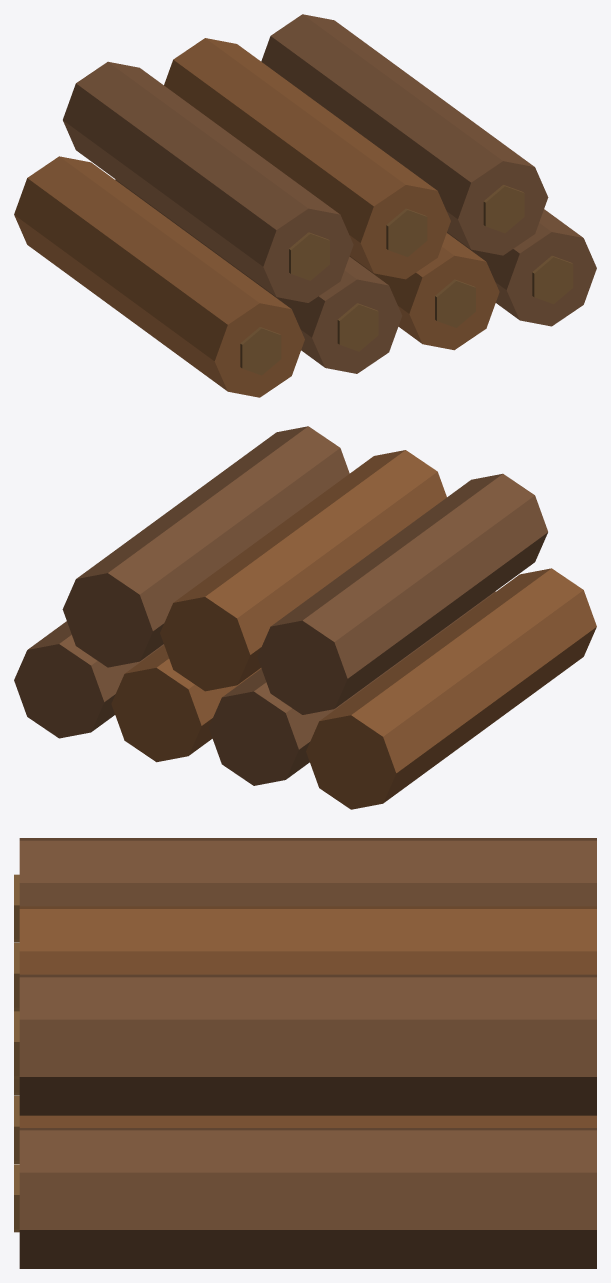
Rendered from pile_leather_2.glb.
The picture shows the model from 3 angles, top to bottom: view 1: azimuth 30°, elevation 25°; view 2: azimuth 150°, elevation 25°; view 3: azimuth 270°, elevation 25°; orthographic projection. The views are drawn at different scales.
Visible parts, largest first — view 1: pile_leather_2; view 2: pile_leather_2; view 3: pile_leather_2.
Part boxes in pixels (x1,y1,x2,y2): pile_leather_2: [14, 14, 596, 397]; pile_leather_2: [14, 426, 596, 809]; pile_leather_2: [14, 838, 596, 1268].
Bounding box in the file's own units: 1.1 × 0.4875 × 1.01.
